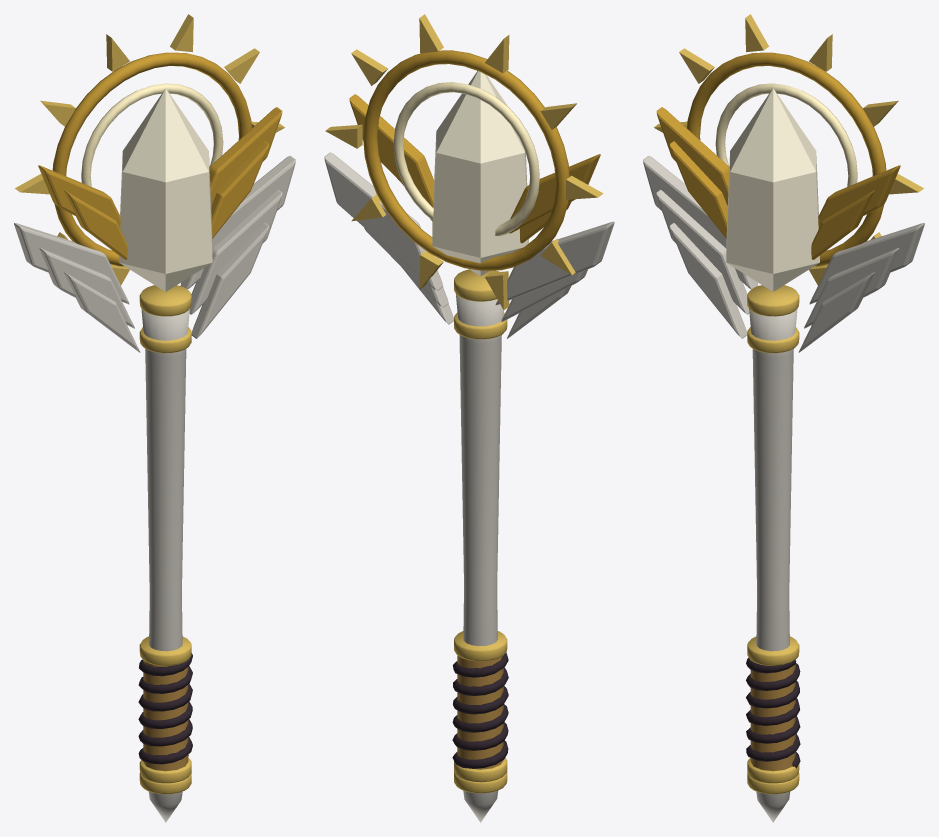
Rendered from mace_seraph.fbx.
The picture shows the model from 3 angles, left to right: view 1: azimuth 30°, elevation 25°; view 2: azimuth 150°, elevation 25°; view 3: azimuth 330°, elevation 25°; orthographic projection. The views are drawn at different scales.
Parts seen in each view (by area): view 1: mace_seraph; view 2: mace_seraph; view 3: mace_seraph.
Part boxes in pixels (x1=…): mace_seraph: x1=14, y1=14, x2=295, y2=822; mace_seraph: x1=324, y1=14, x2=614, y2=822; mace_seraph: x1=643, y1=14, x2=924, y2=822.
Size of the model in its own units: 0.3542 by 0.9617 by 0.1039.
